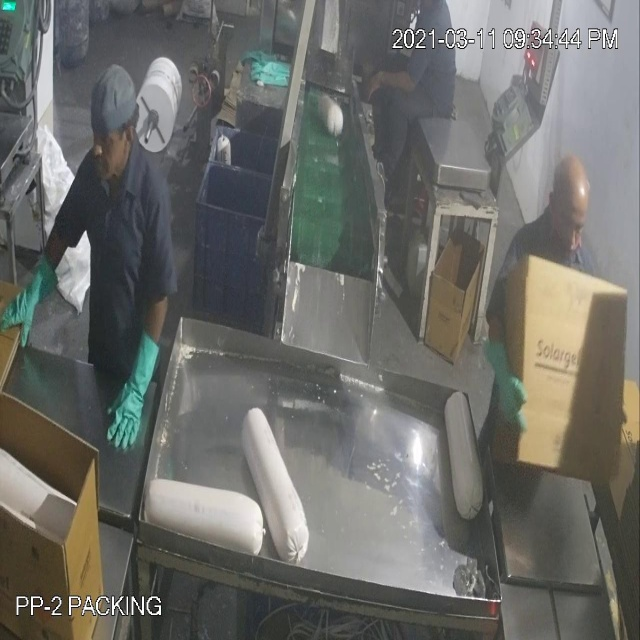Guantes: (103, 319, 163, 460), (3, 244, 64, 351)
Sin_guantes: (361, 59, 422, 108)
